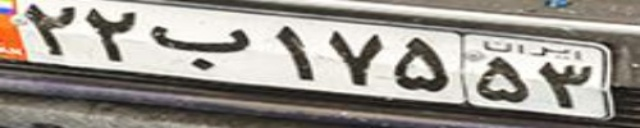1: (274, 25, 316, 80)
2: (82, 6, 139, 62), (25, 3, 77, 56)
3: (538, 61, 593, 108)
5: (393, 36, 448, 92), (473, 56, 531, 102)
7: (328, 30, 382, 87)
be: (148, 24, 250, 70)
